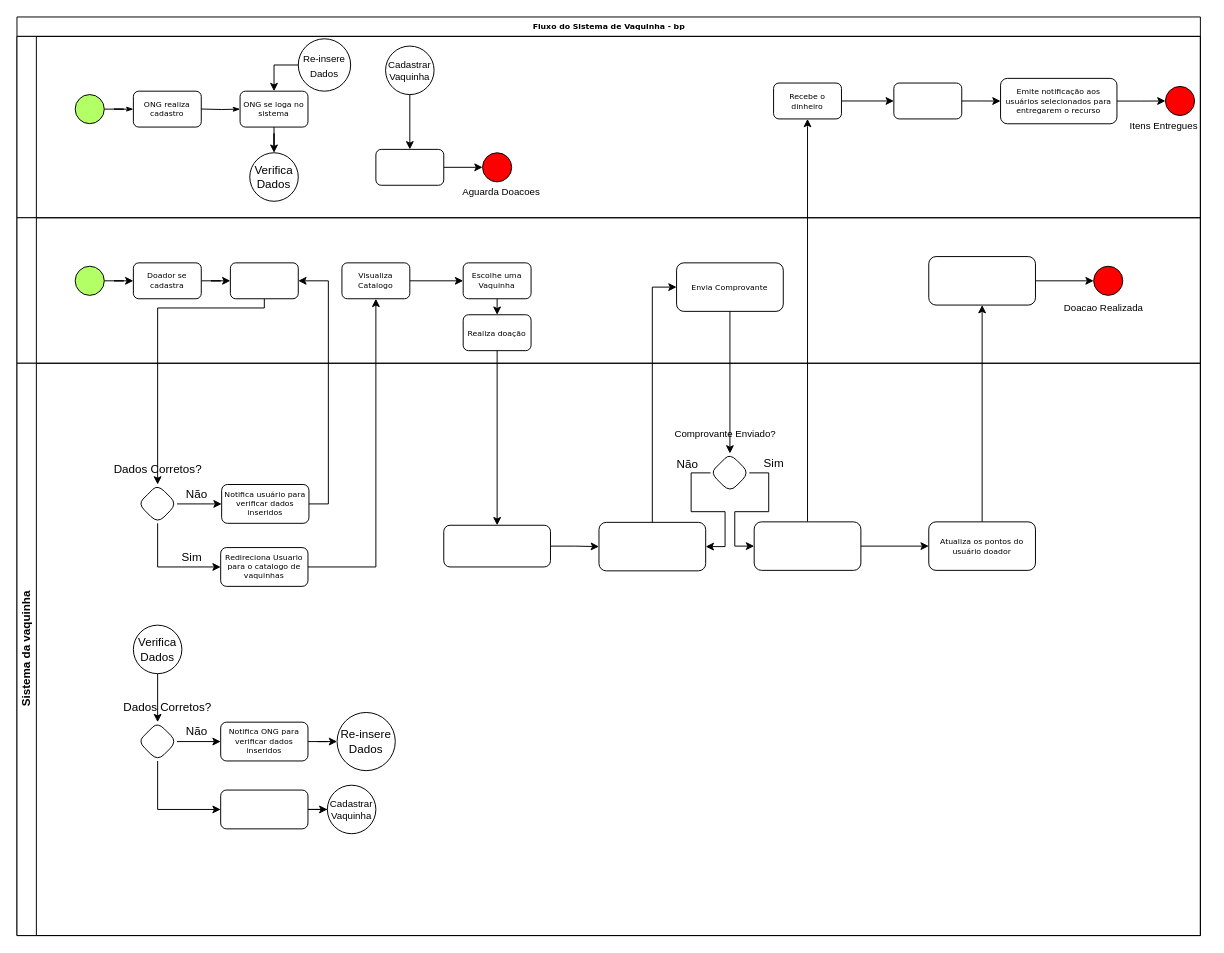
Image size: 1224x953. Some labels were removed from this diagram. Each missing label, with the box of its shape:
Cadastra vaquinha: (375, 148, 444, 185)
Doador se loga no sistema: (229, 262, 298, 299)
Emite chave PIX disponibilizada pela ONG: (443, 524, 550, 567)
Emite comprovação ao usuário: (893, 82, 962, 119)
Notifica ONG de que o dinheiro foi doado: (753, 521, 861, 570)
Redireciona ONG para cadastro de Vaquinha: (220, 789, 308, 829)
Solicita comprovante do usuário: (598, 521, 706, 571)
Usuário Doador: (16, 217, 1200, 363)
Usuário ONG: (16, 35, 1200, 218)
Usuário verifica pontos atualizados no seu perfil: (928, 256, 1035, 305)
